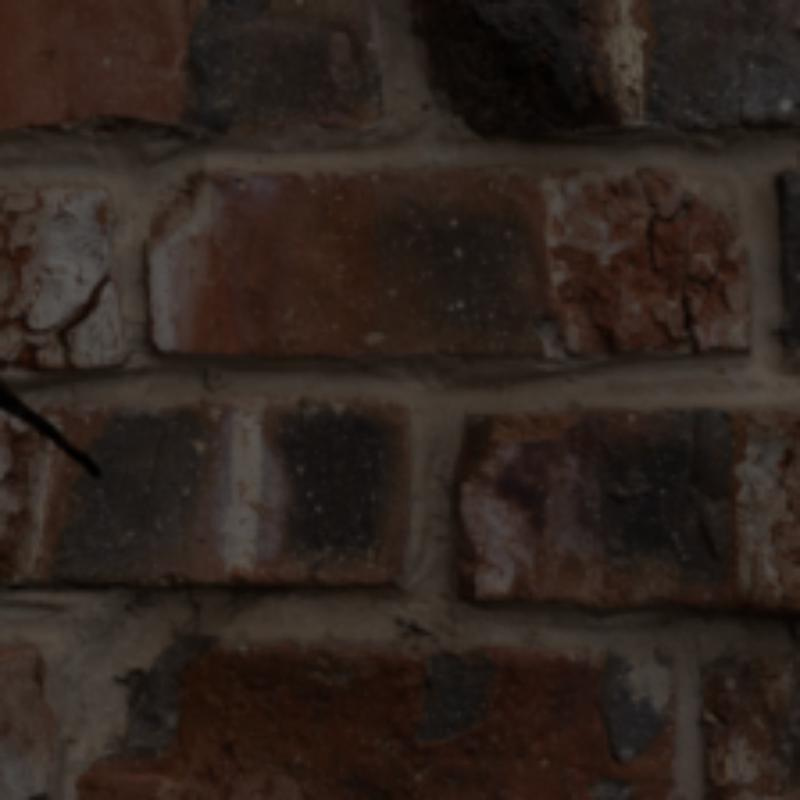crack: (0, 379, 100, 479), (61, 279, 111, 364), (643, 200, 693, 268), (682, 289, 700, 350)
